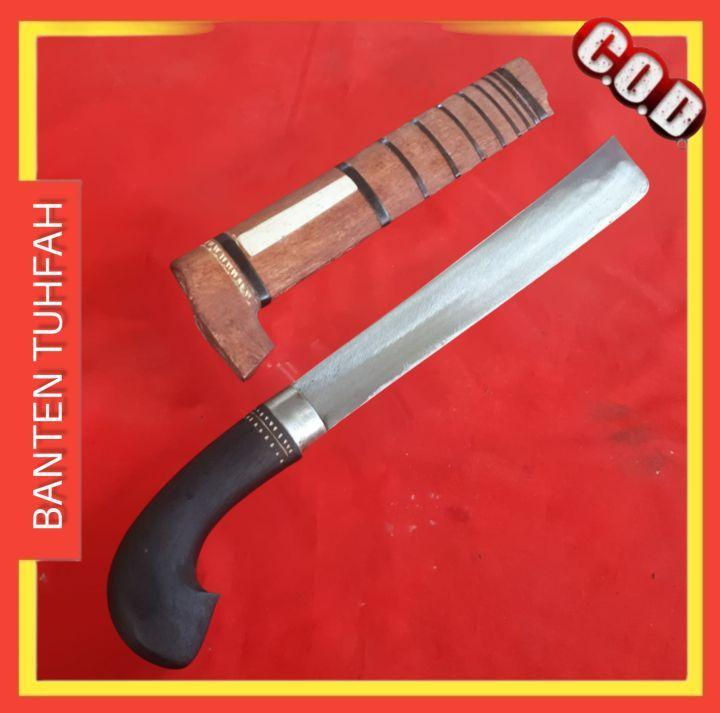facao: (71, 126, 666, 703)
